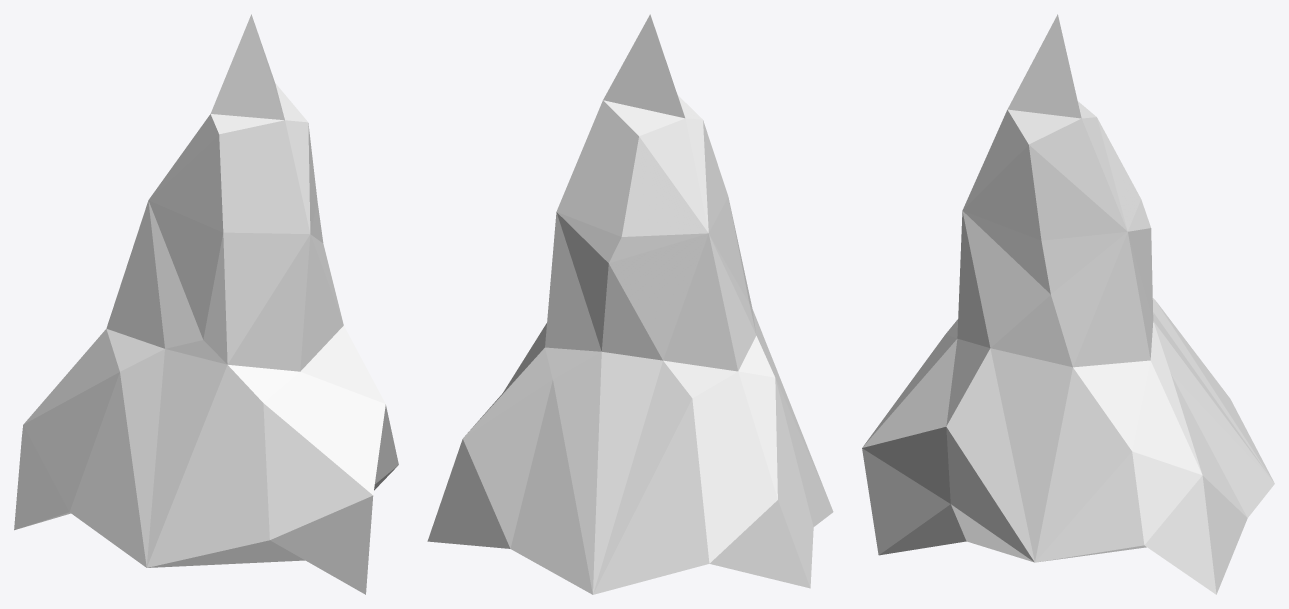
File: iceFall.obj
3 views of the same model, side by side, from view 1: azimuth 30°, elevation 25°; view 2: azimuth 150°, elevation 25°; view 3: azimuth 270°, elevation 25° (orthographic).
Visible parts, largest first — view 1: rock; view 2: rock; view 3: rock.
Boxes of the visible parts, x1,y1,x2,y2 form: rock: (14,14,398,594); rock: (427,14,833,594); rock: (862,14,1274,594).
Size of the model in its own units: 2.18 by 3.11 by 2.2.
1 material, 1 textured.
